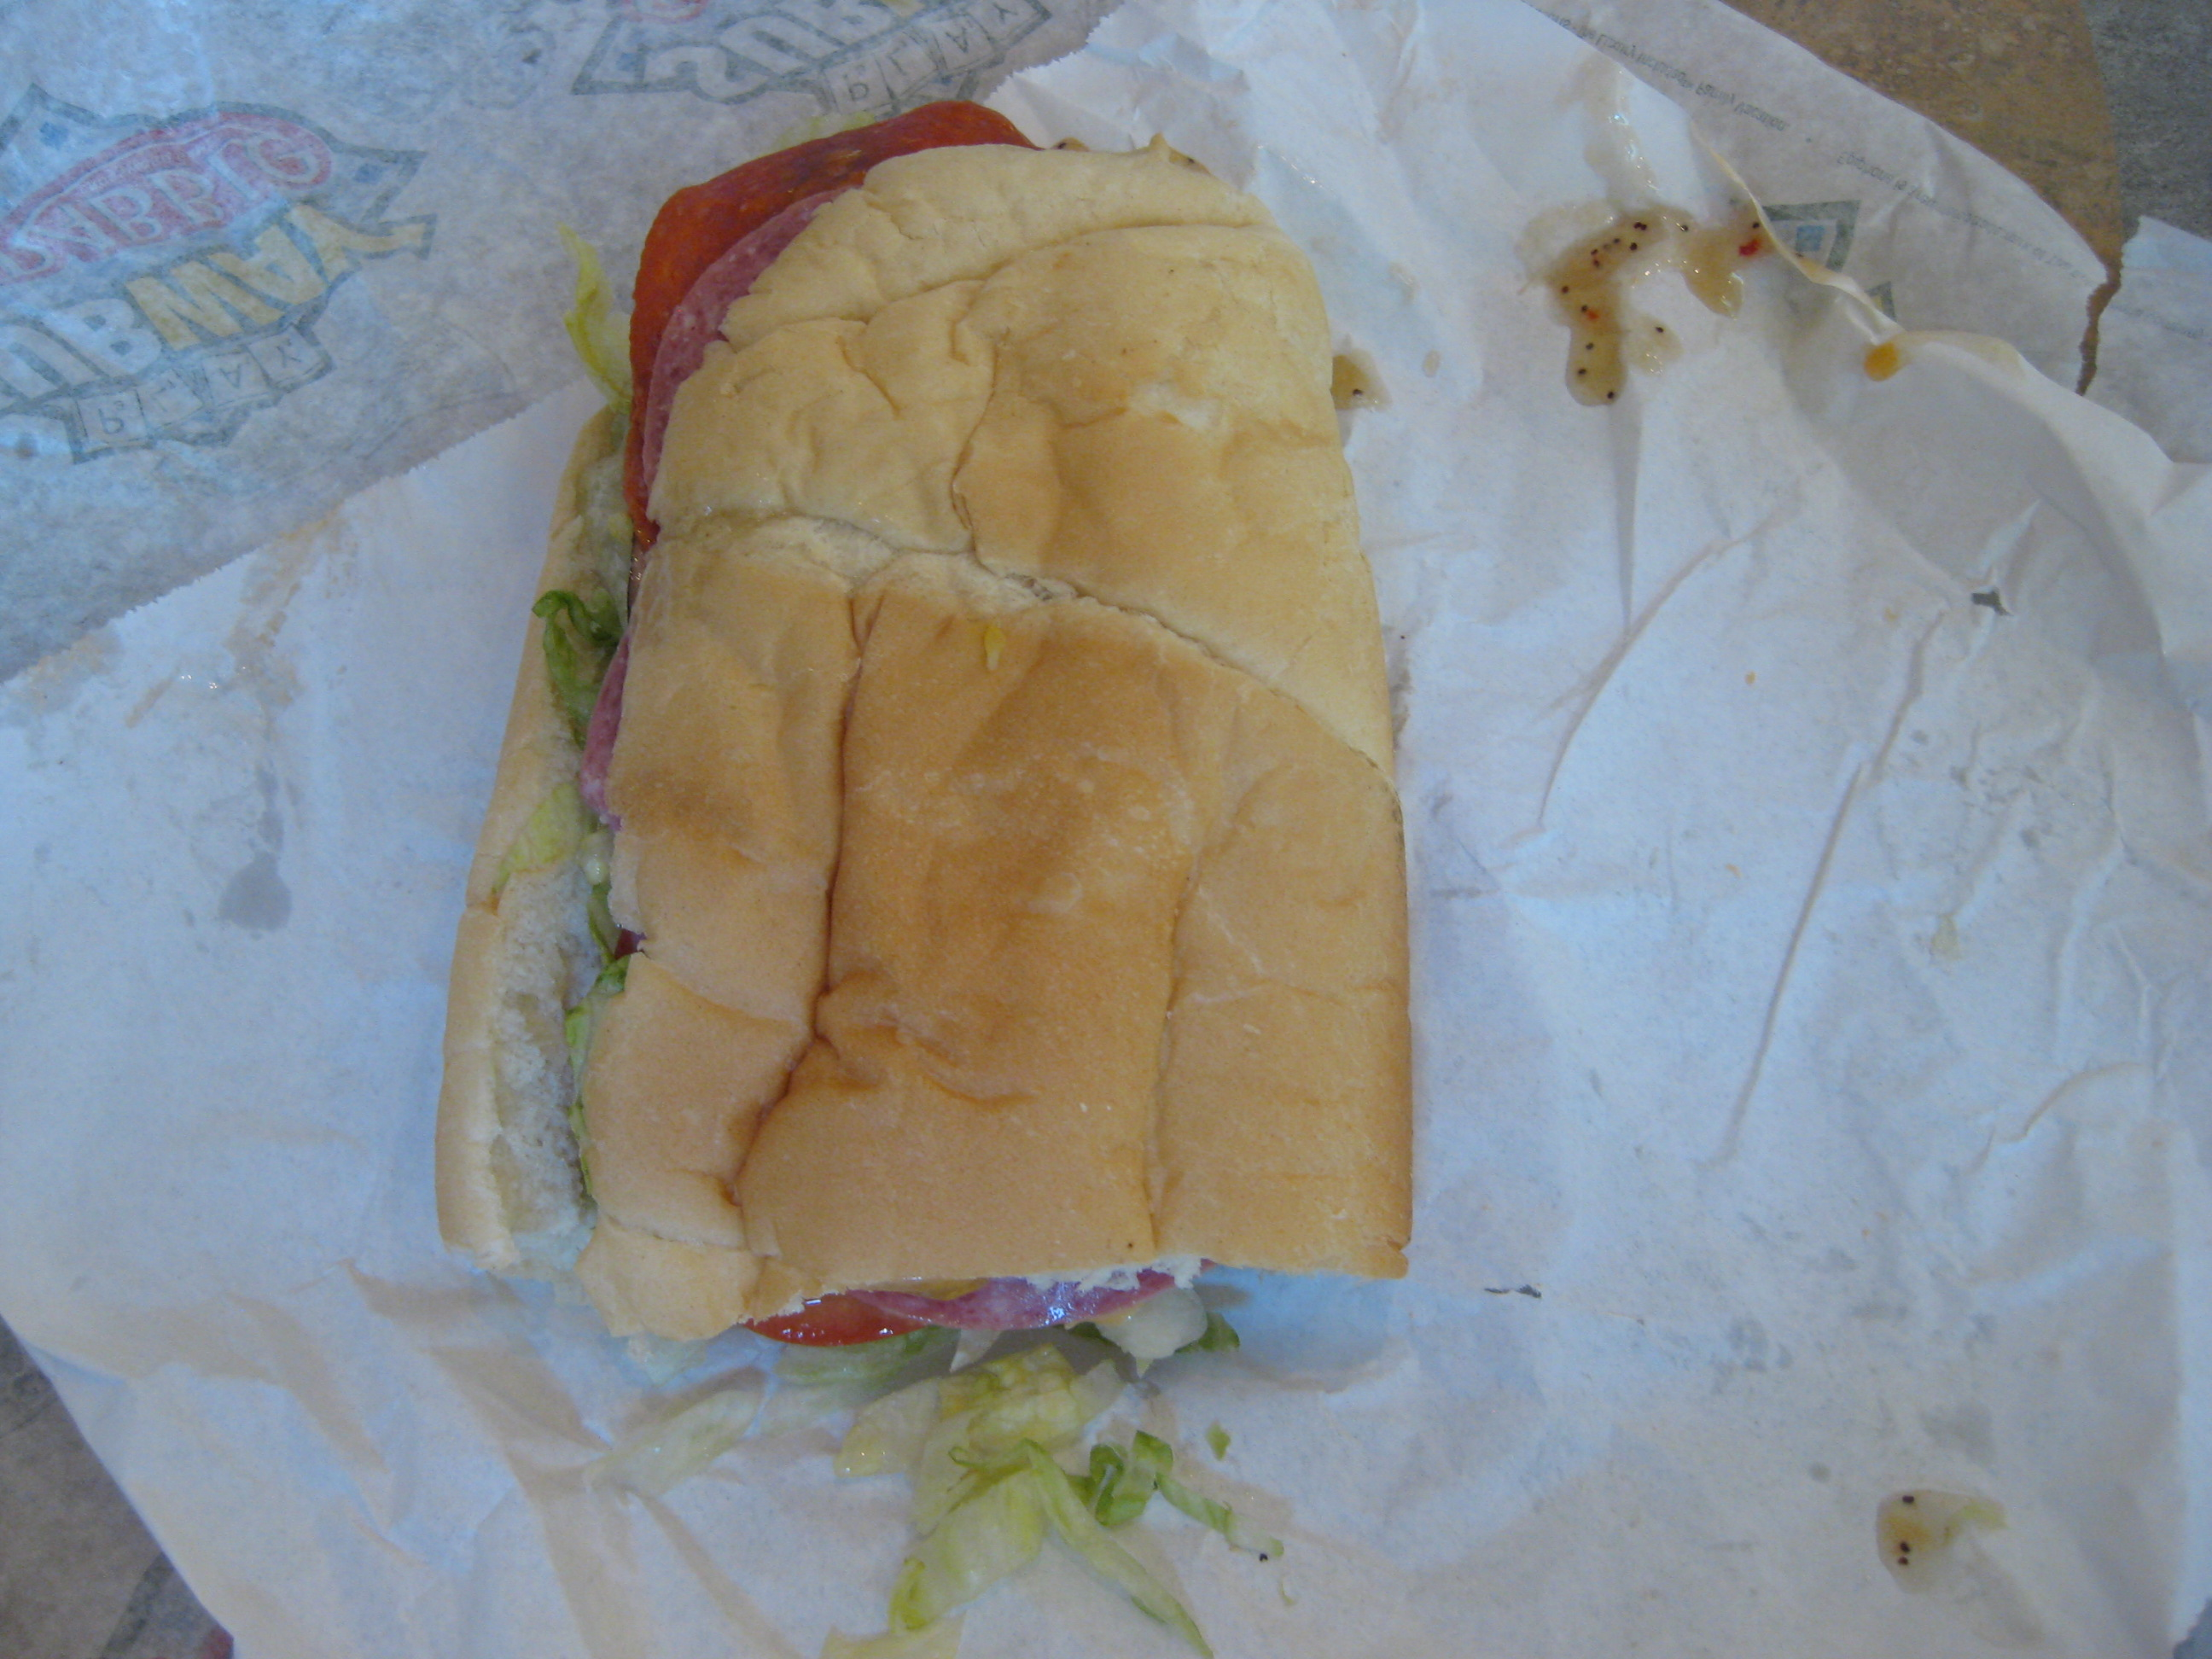sub: (454, 89, 1540, 1386)
